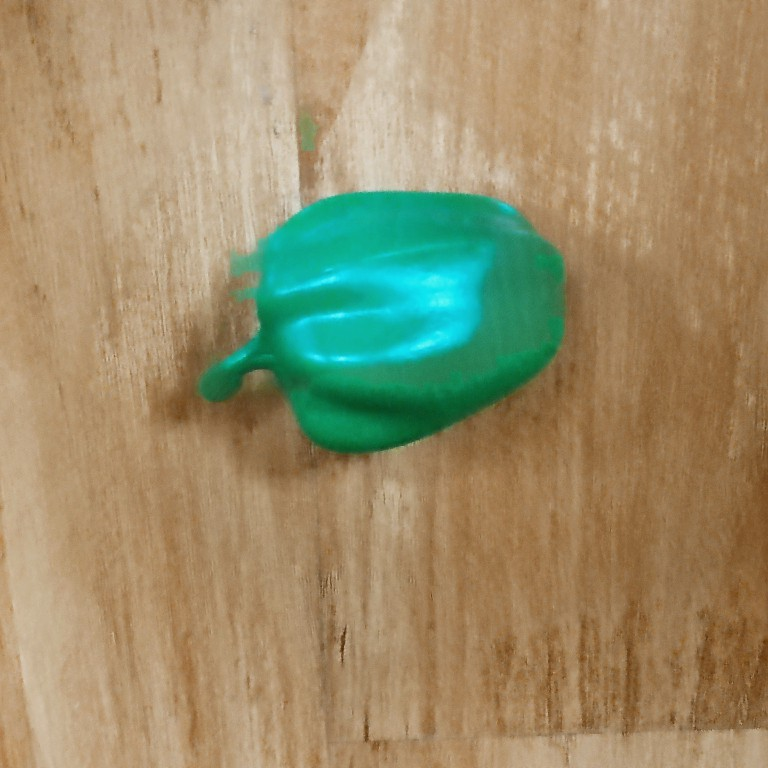fruit_pepper: (190, 186, 574, 456)
